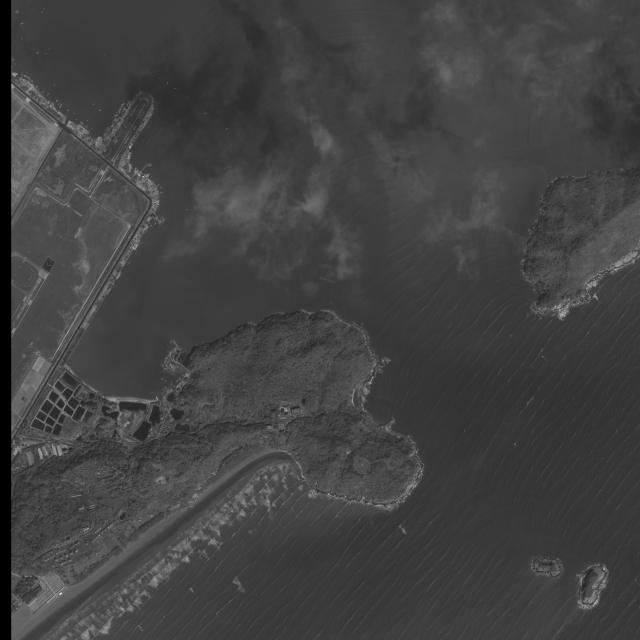ship: (155, 395, 159, 402), (147, 164, 152, 167), (98, 109, 102, 112), (59, 104, 62, 108), (30, 79, 33, 83), (160, 191, 164, 194), (157, 183, 160, 187), (109, 126, 113, 129), (113, 119, 117, 122), (120, 104, 124, 107), (111, 124, 115, 127), (111, 124, 115, 127), (158, 76, 163, 78), (225, 128, 230, 130), (216, 125, 221, 127), (89, 128, 92, 131), (75, 118, 78, 121), (56, 99, 59, 102), (41, 91, 44, 94), (15, 10, 18, 13), (20, 22, 23, 25), (86, 119, 89, 122), (160, 186, 163, 189), (108, 126, 111, 129), (122, 102, 125, 105), (120, 105, 123, 108), (119, 106, 122, 109), (104, 132, 107, 135), (36, 85, 38, 89), (86, 125, 88, 129), (28, 76, 30, 80), (21, 71, 23, 75), (47, 48, 51, 50), (205, 112, 209, 114), (118, 110, 122, 112), (116, 112, 120, 114), (81, 121, 83, 124), (82, 123, 84, 126), (47, 93, 49, 96), (26, 76, 29, 78), (36, 52, 39, 54), (92, 103, 95, 105), (186, 96, 189, 98), (150, 176, 152, 179), (118, 108, 121, 110), (118, 111, 121, 113), (121, 104, 124, 106), (111, 126, 114, 128), (167, 82, 168, 87), (25, 74, 26, 78), (21, 38, 23, 40), (41, 11, 43, 13), (43, 7, 45, 9), (16, 11, 18, 13), (53, 84, 55, 86), (67, 110, 69, 112), (174, 88, 178, 89), (119, 107, 121, 109), (114, 115, 118, 116), (38, 88, 39, 91), (85, 125, 86, 128), (81, 121, 82, 124), (40, 89, 41, 92), (24, 74, 25, 77), (22, 73, 23, 76), (114, 118, 117, 119)
